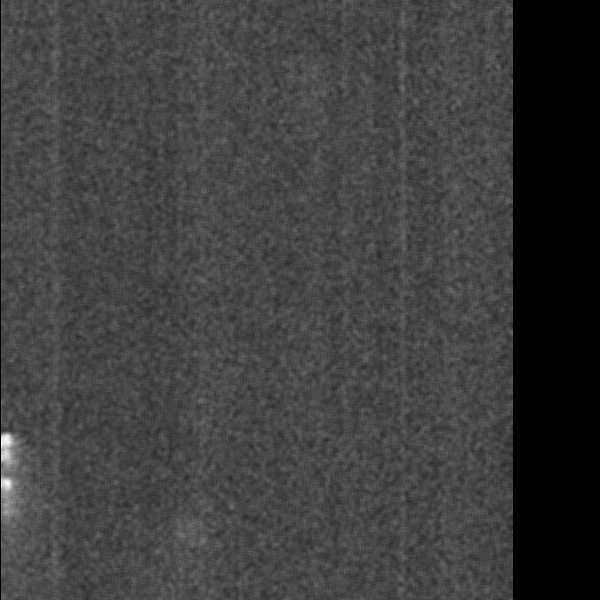spark: (428, 158, 477, 251), (427, 437, 488, 483)
